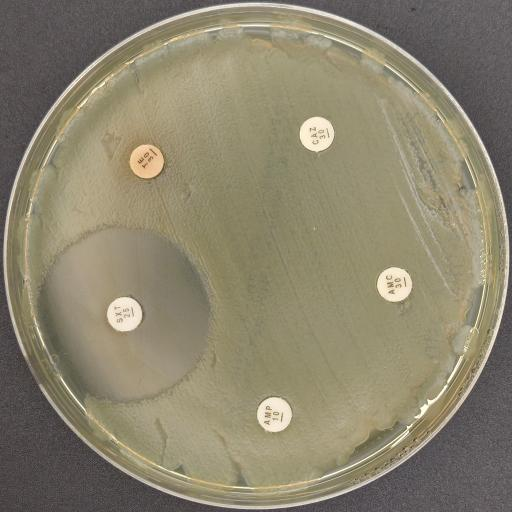disc: (107, 296, 143, 332), (256, 397, 292, 433), (299, 116, 335, 152), (377, 267, 412, 302), (130, 144, 164, 178)
